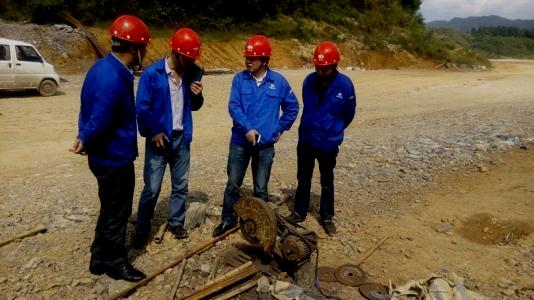helmet: (109, 12, 153, 64), (169, 27, 202, 71), (242, 32, 273, 74), (314, 38, 342, 79)
not_reflective: (74, 58, 142, 163), (137, 62, 205, 142), (228, 72, 299, 148), (297, 73, 356, 151)
